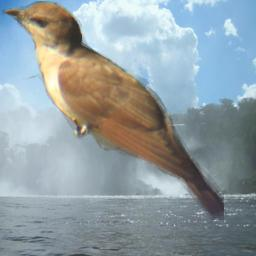Cuckoo: (2, 1, 224, 220)
